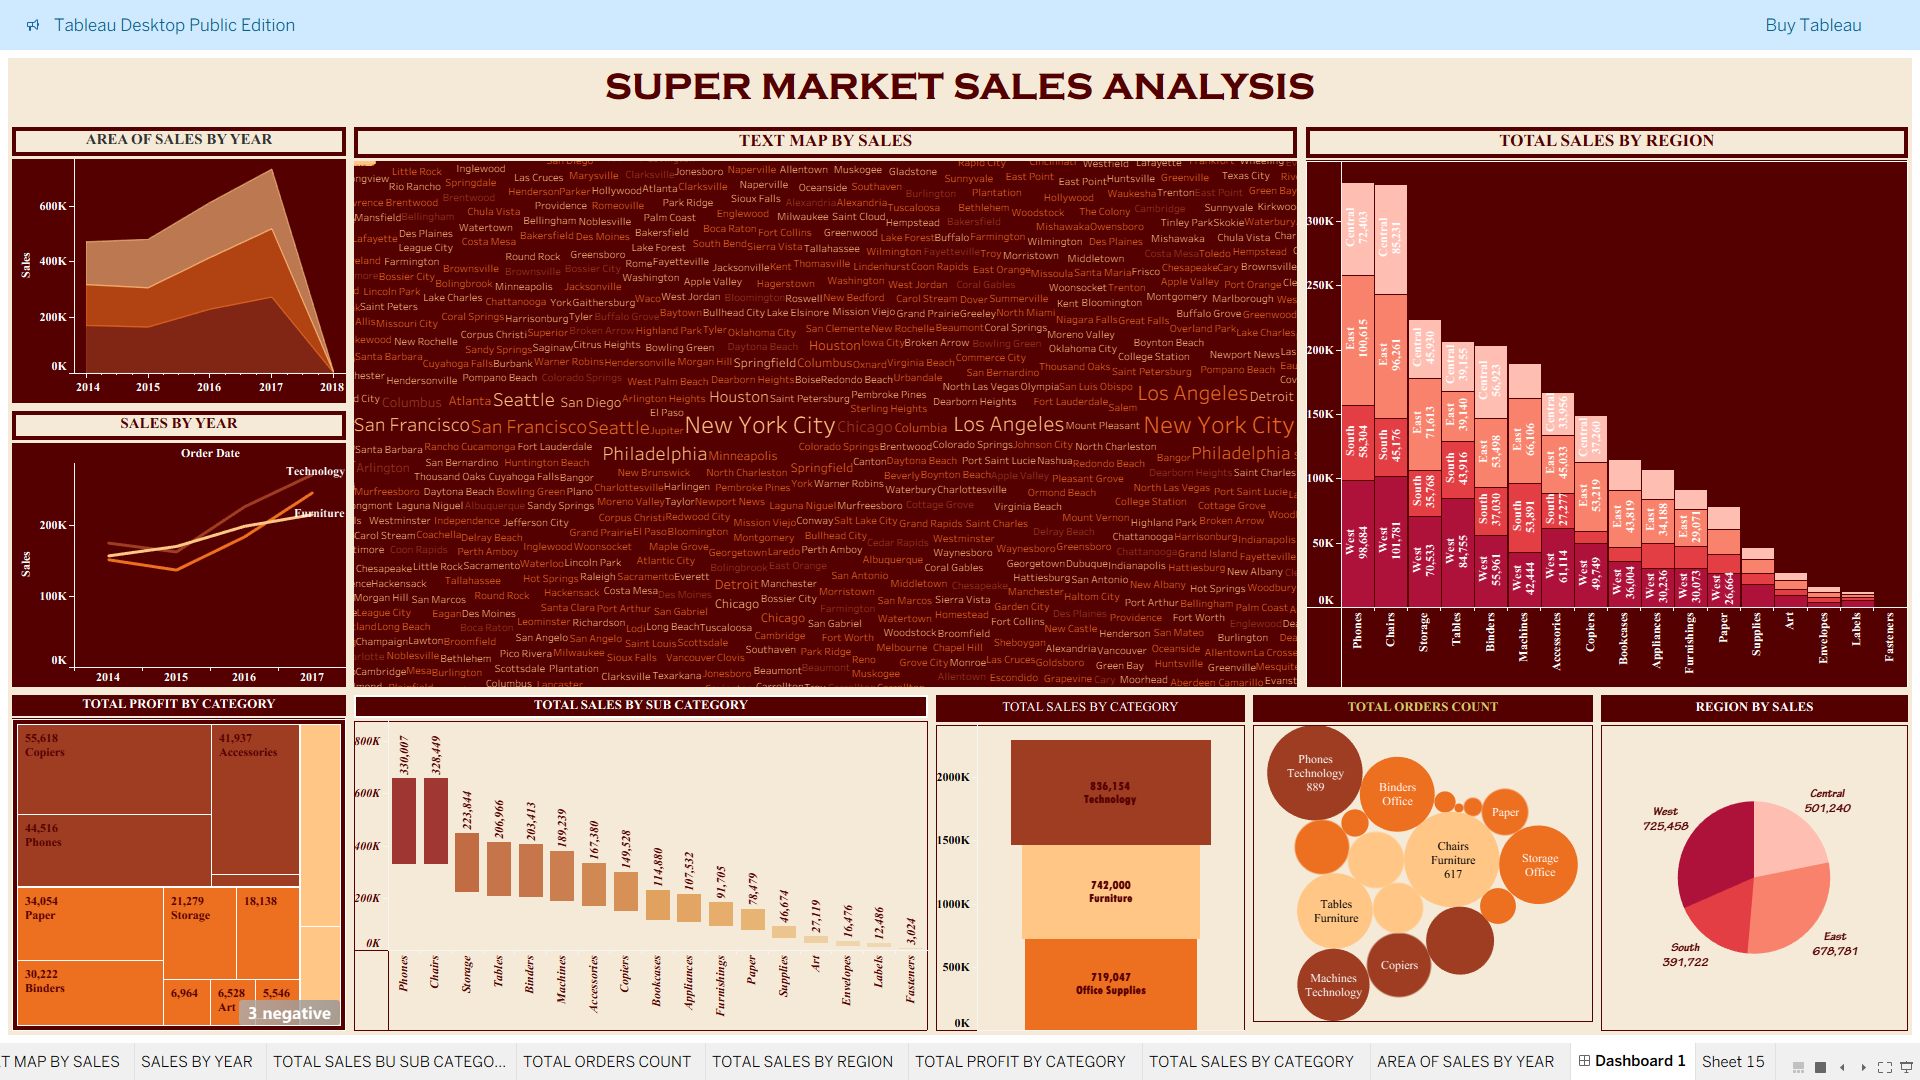

The page's visual inventory and layout, read from the dashboard file:
{"tool":"tableau","page":{"name":"Dashboard 1","canvas":[1000,1000],"units":"permille","ordinal":0},"visuals":[{"type":"worksheet","title":"Sheet 15","mark":"Automatic","box":[4.9,10,990.2,64.8]},{"type":"worksheet","title":"AREA OF SALES BY YEAR","mark":"Area","rows":["Sales"],"cols":["Ship Date"],"box":[4.9,74.8,178,285.2]},{"type":"worksheet","title":"TEXT MAP BY SALES","mark":"Text","box":[182.8,74.8,494.9,570.4]},{"type":"worksheet","title":"TOTAL SALES BY REGION","mark":"Automatic","rows":["Sales"],"cols":["Sub-Category"],"box":[677.7,74.8,317.4,570.4]},{"type":"worksheet","title":"SALES BY YEAR","mark":"Automatic","rows":["Sales"],"cols":["Order Date"],"box":[4.9,360,178,285.3]},{"type":"worksheet","title":"TOTAL PROFIT BY CATEGORY","mark":"Automatic","box":[4.9,645.2,178,344.8]},{"type":"worksheet","title":"TOTAL SALES BU SUB CATEGORY","mark":"GanttBar","rows":["Sales"],"cols":["Sub-Category"],"box":[182.8,645.2,302.8,344.8]},{"type":"worksheet","title":"TOTAL SALES BY CATEGORY","mark":"Automatic","rows":["Sales"],"box":[485.6,645.2,164.8,344.8]},{"type":"worksheet","title":"TOTAL ORDERS COUNT","mark":"Circle","box":[650.4,645.2,181.2,344.8]},{"type":"worksheet","title":"REGION BY SALES","mark":"Pie","box":[831.6,645.2,163.6,344.8]}]}

Visuals, with their boxes on the dashboard's canvas, which has no fixed pixel size, in thousandths of its width and height (x1, y1, x2, y2). These are canvas units, not pixel positions in the 1920x1080 screenshot, which may show the page scaled, cropped or inside an application window:
"Sheet 15" worksheet: detection(5, 10, 995, 75)
"AREA OF SALES BY YEAR" worksheet (Area marks): detection(5, 75, 183, 360)
"TEXT MAP BY SALES" worksheet (Text marks): detection(183, 75, 678, 645)
"TOTAL SALES BY REGION" worksheet: detection(678, 75, 995, 645)
"SALES BY YEAR" worksheet: detection(5, 360, 183, 645)
"TOTAL PROFIT BY CATEGORY" worksheet: detection(5, 645, 183, 990)
"TOTAL SALES BU SUB CATEGORY" worksheet (GanttBar marks): detection(183, 645, 486, 990)
"TOTAL SALES BY CATEGORY" worksheet: detection(486, 645, 650, 990)
"TOTAL ORDERS COUNT" worksheet (Circle marks): detection(650, 645, 832, 990)
"REGION BY SALES" worksheet (Pie marks): detection(832, 645, 995, 990)
